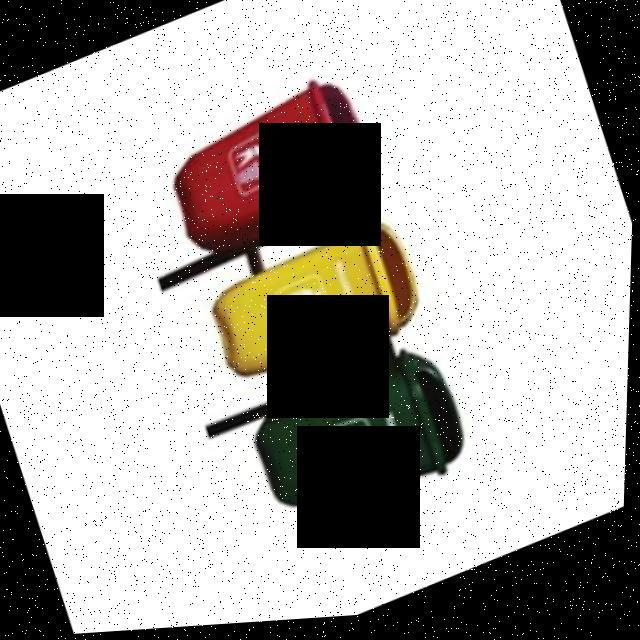bin: (127, 58, 404, 297), (217, 321, 486, 564), (183, 199, 444, 418)
